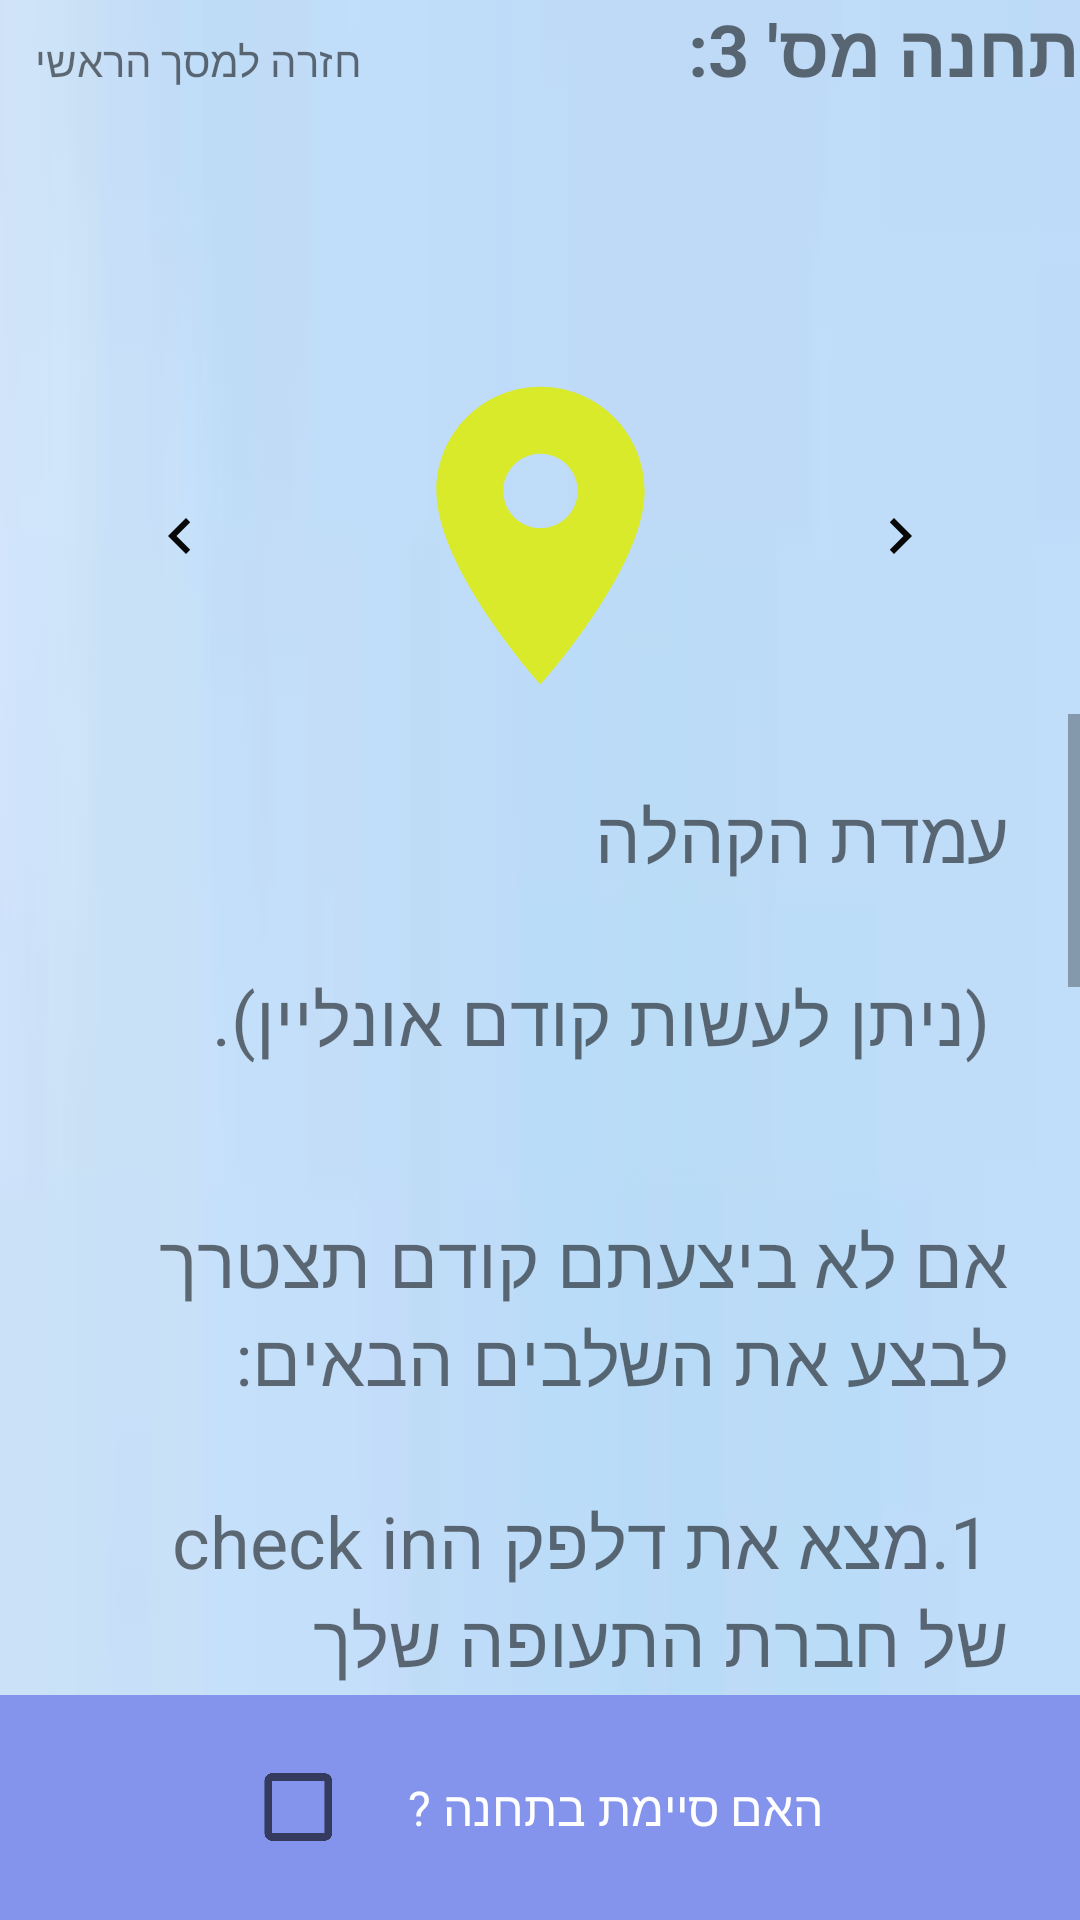

Screen size 1080*1920. Icon name, then its center in pixels as (x,y):
loc: (540,535)
navnext: (901,536)
